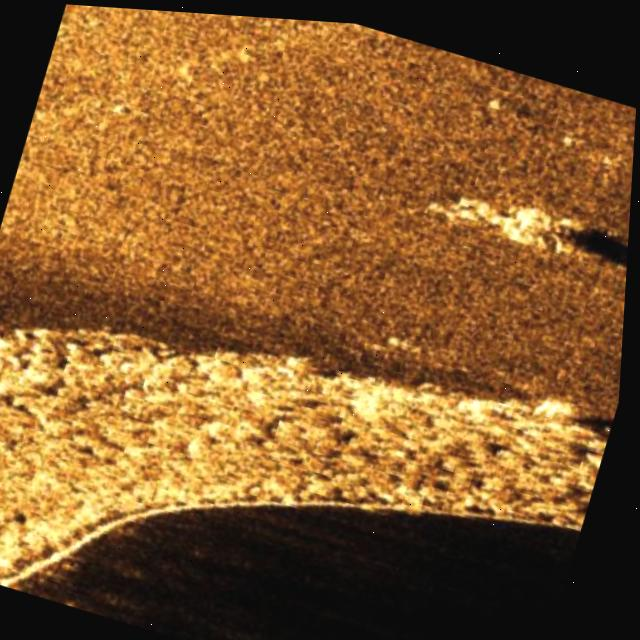bedrock group: (0, 224, 624, 640)
